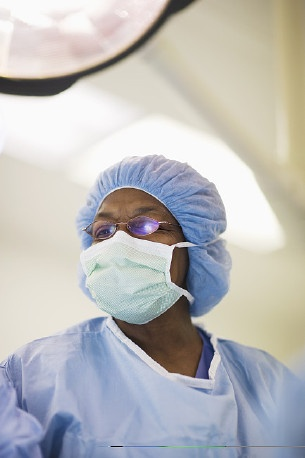Mask: (78, 199, 203, 324)
